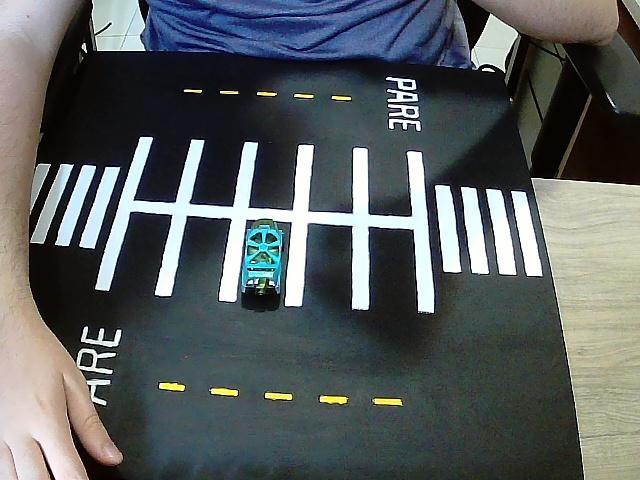Carro: (242, 219, 288, 297)
